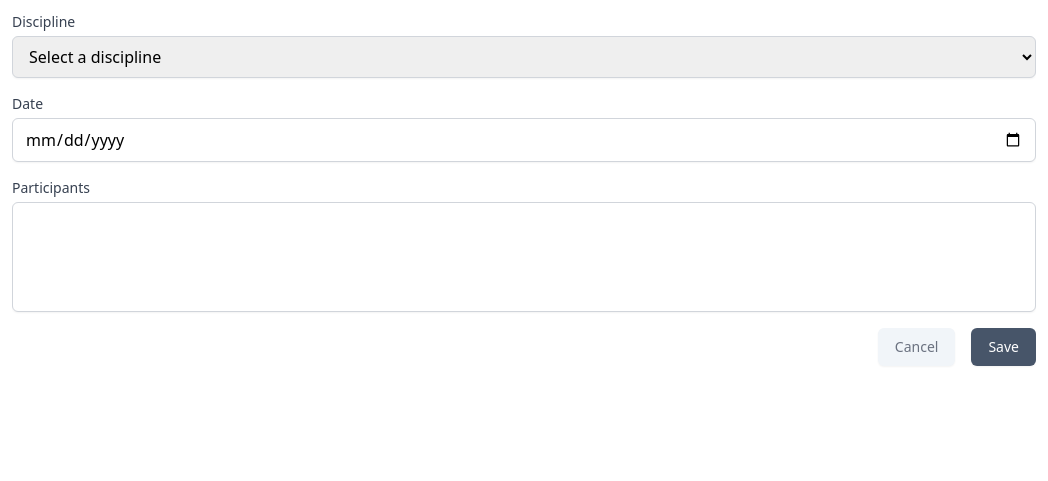
MultipleResultsForm › handles participant selection
This screenshot has width=1048, height=481.
Select discipline first
Select "100m" in the dropdown labelled "Discipline": x=524, y=57 [12, 36, 1036, 78]
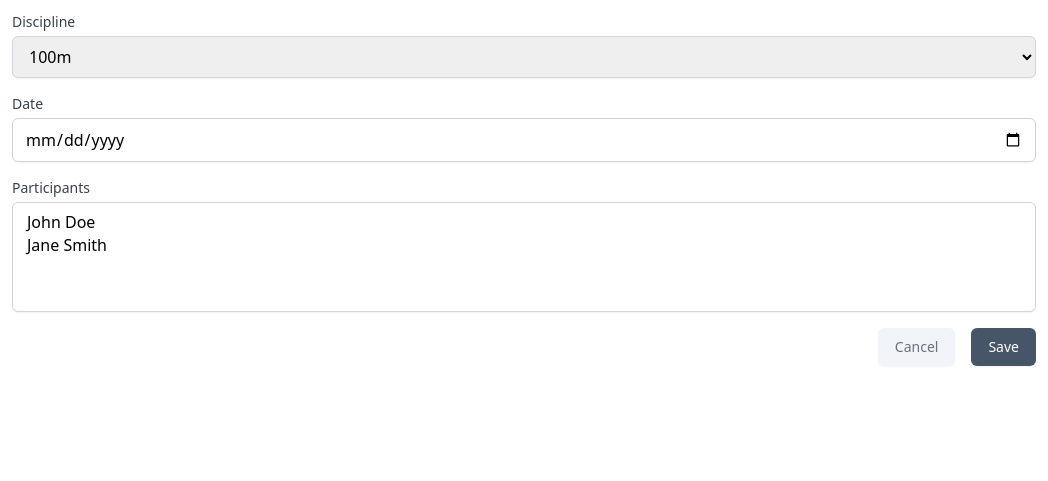
Simpler event for multi-select
Select "John Doe" in the dropdown labelled "Participants": x=524, y=257 [12, 202, 1036, 312]
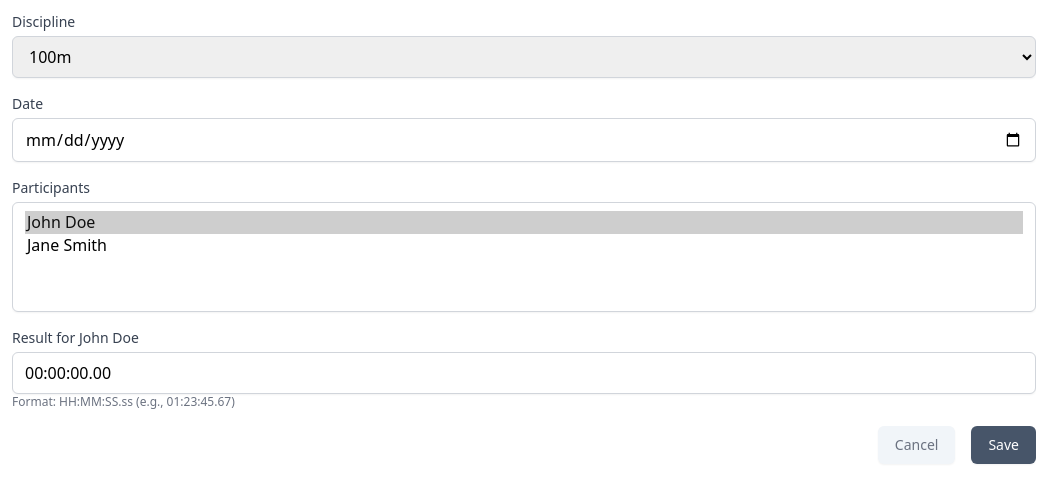
Check: the text "Result for John Doe" is shown, box [12, 328, 139, 347]
